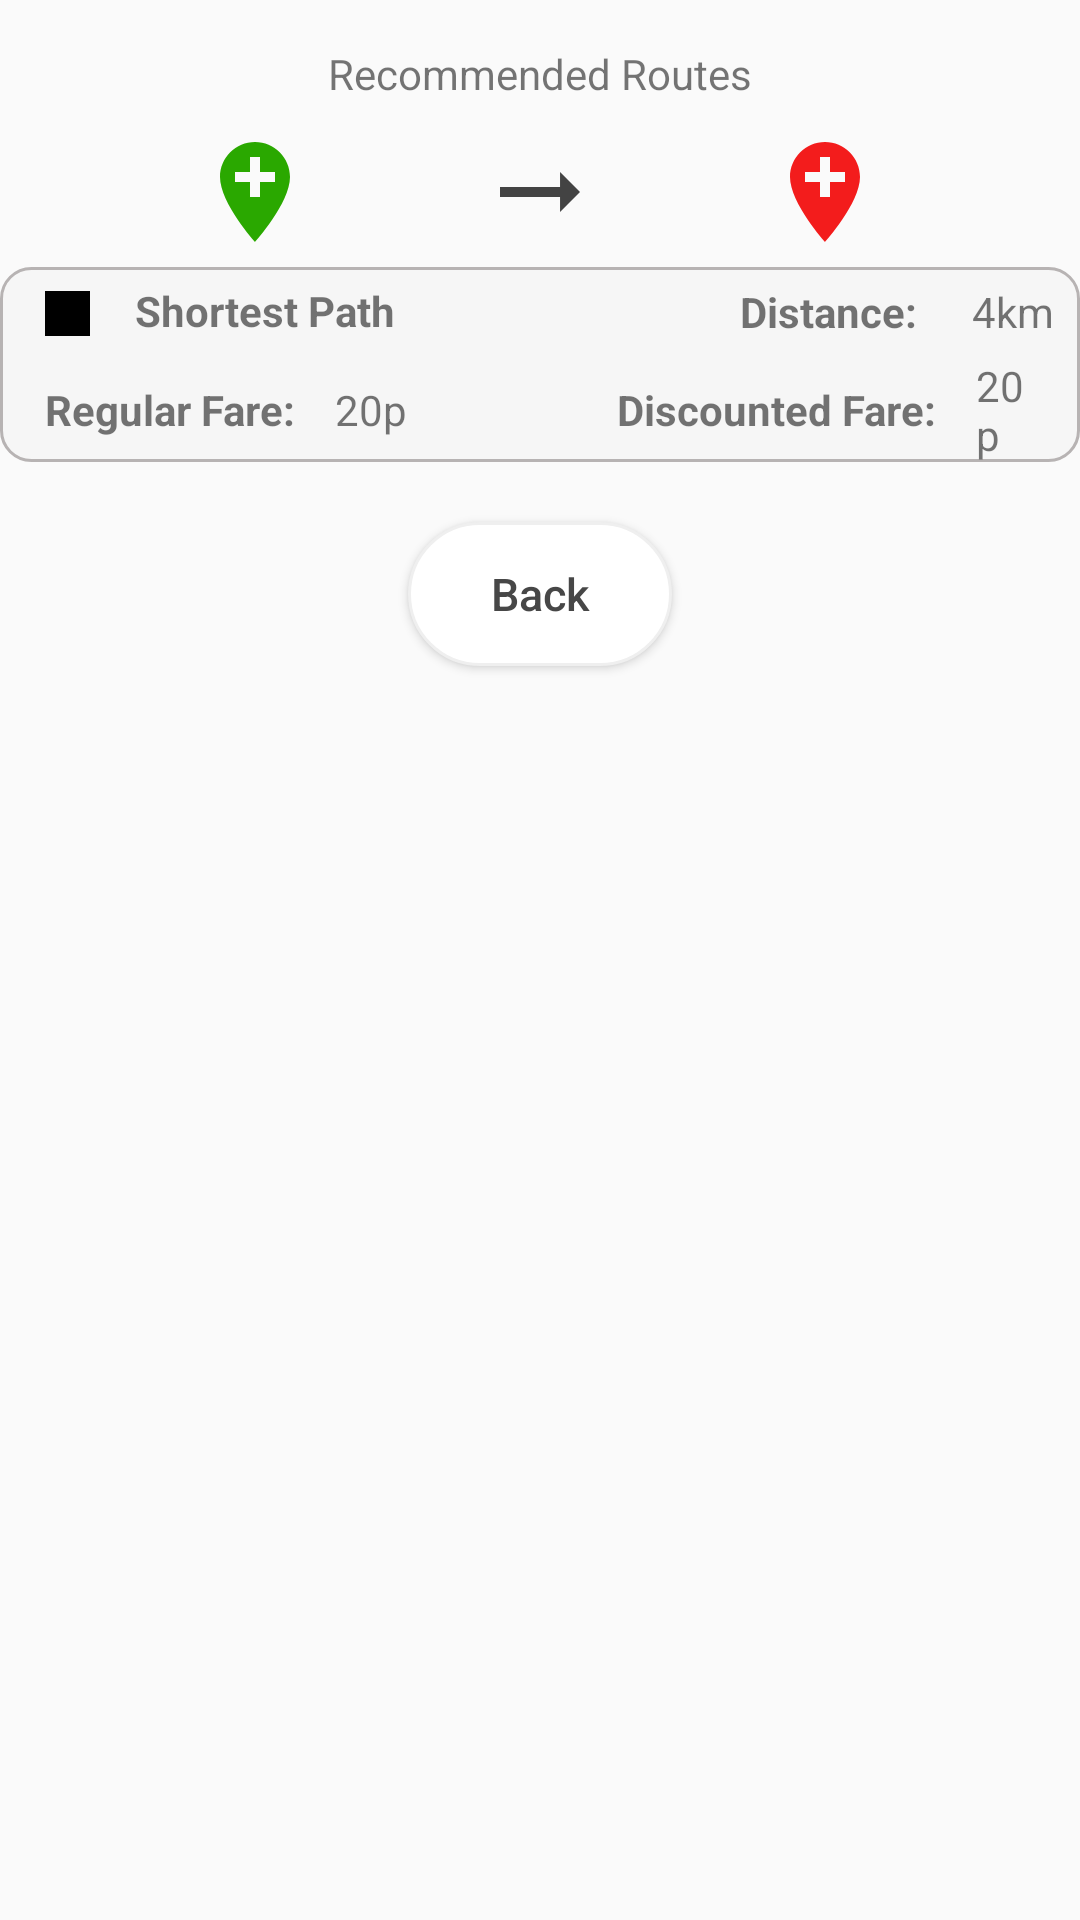

Icon bounding boxes for this 1080w x 1920h phone screenshot, format [x1=x1, y1=y1, x2=x2, y2=y2]:
add location: [x1=220, y1=142, x2=290, y2=242]
arrow right: [x1=500, y1=172, x2=580, y2=212]
marker: [x1=790, y1=142, x2=860, y2=242]
